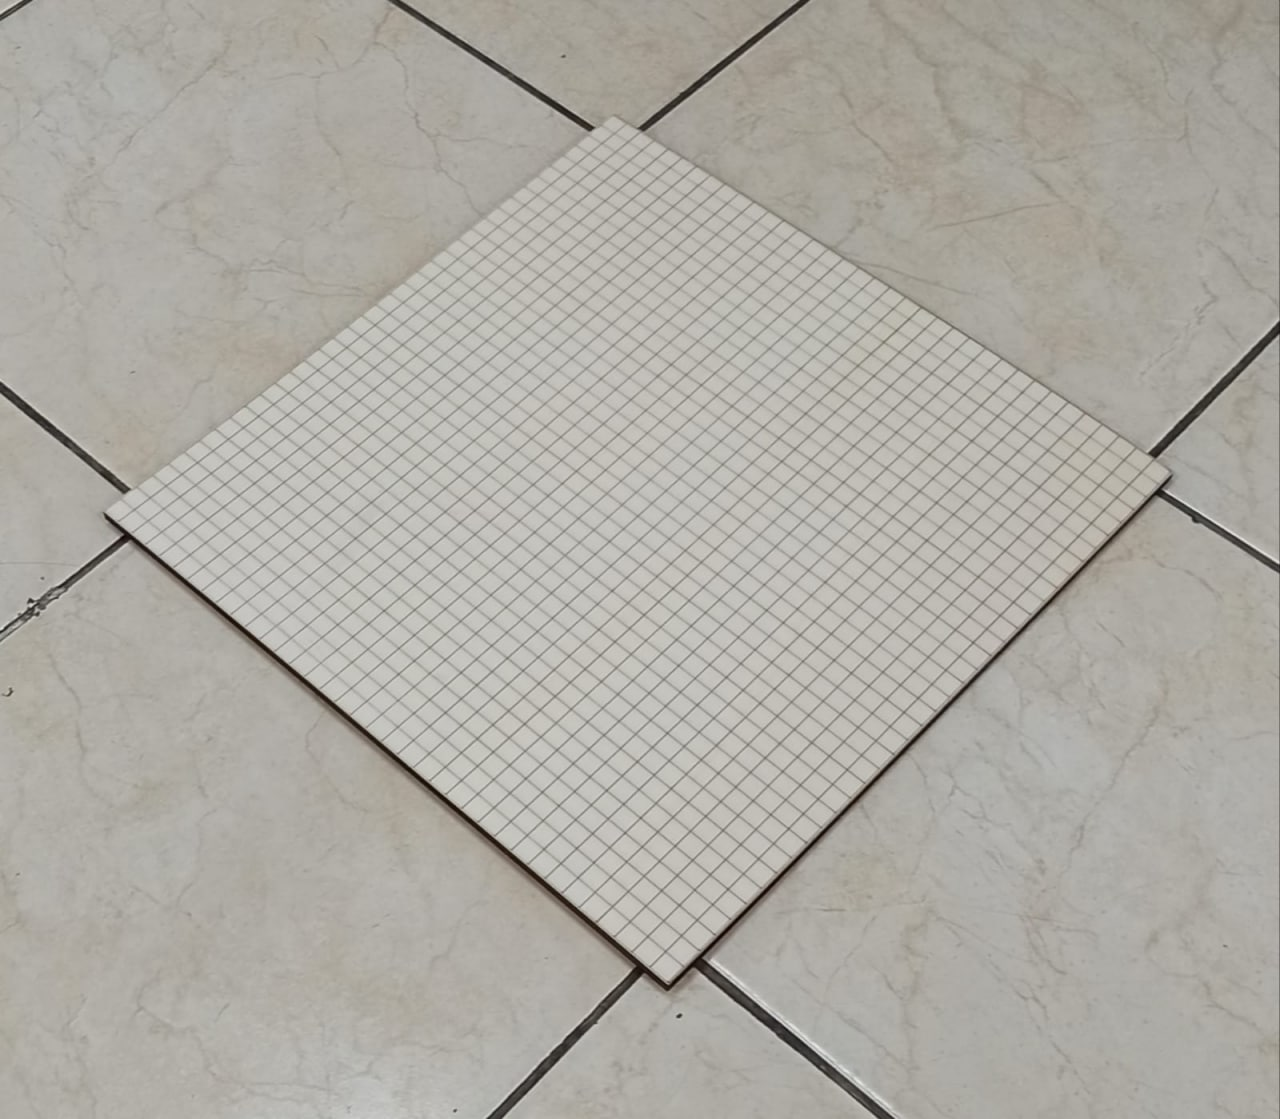grid: (89, 110, 1185, 997)
